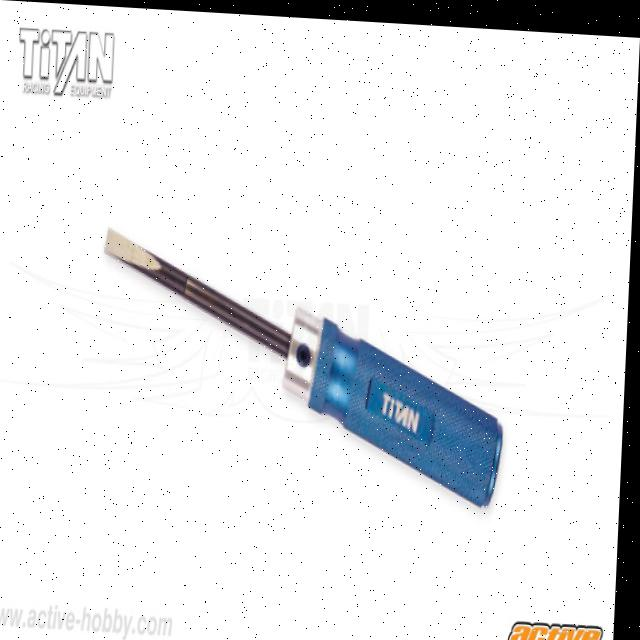Screwdriver: (108, 229, 506, 499)
